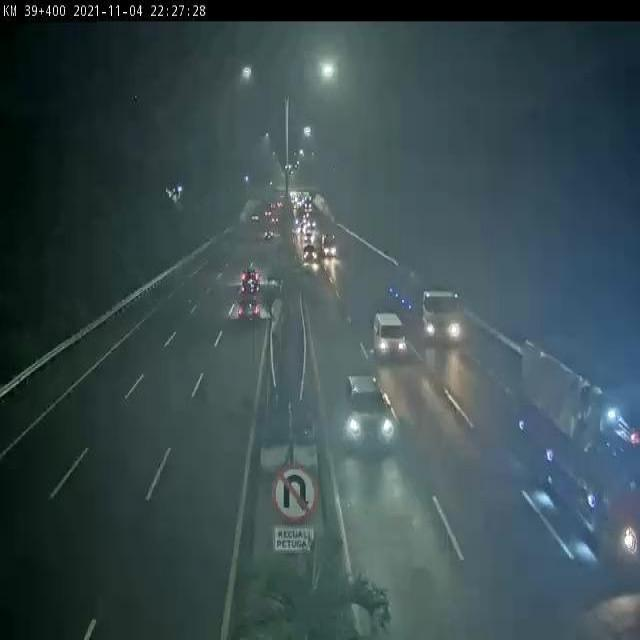car: (343, 372, 394, 451), (374, 311, 409, 360), (240, 265, 263, 295), (236, 297, 262, 323)
truck-l-: (520, 336, 640, 561)
truck-xl-: (387, 264, 461, 344)
